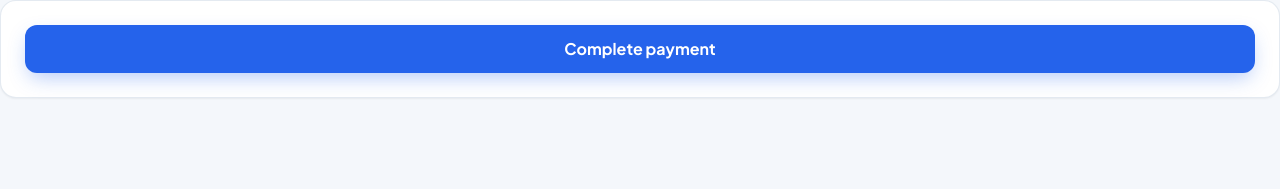
Test: local payment form › shows an actionable error and allows the customer to retry
Click the button "Complete payment" at (640, 49), box [25,25,1255,73]
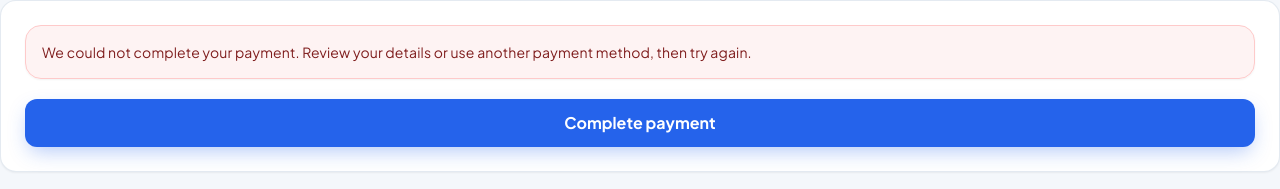
Expected: the button "Complete payment" is enabled, [25,99,1255,147]
Now the message shows "review your details or use another payment method", box [42,43,752,61]
